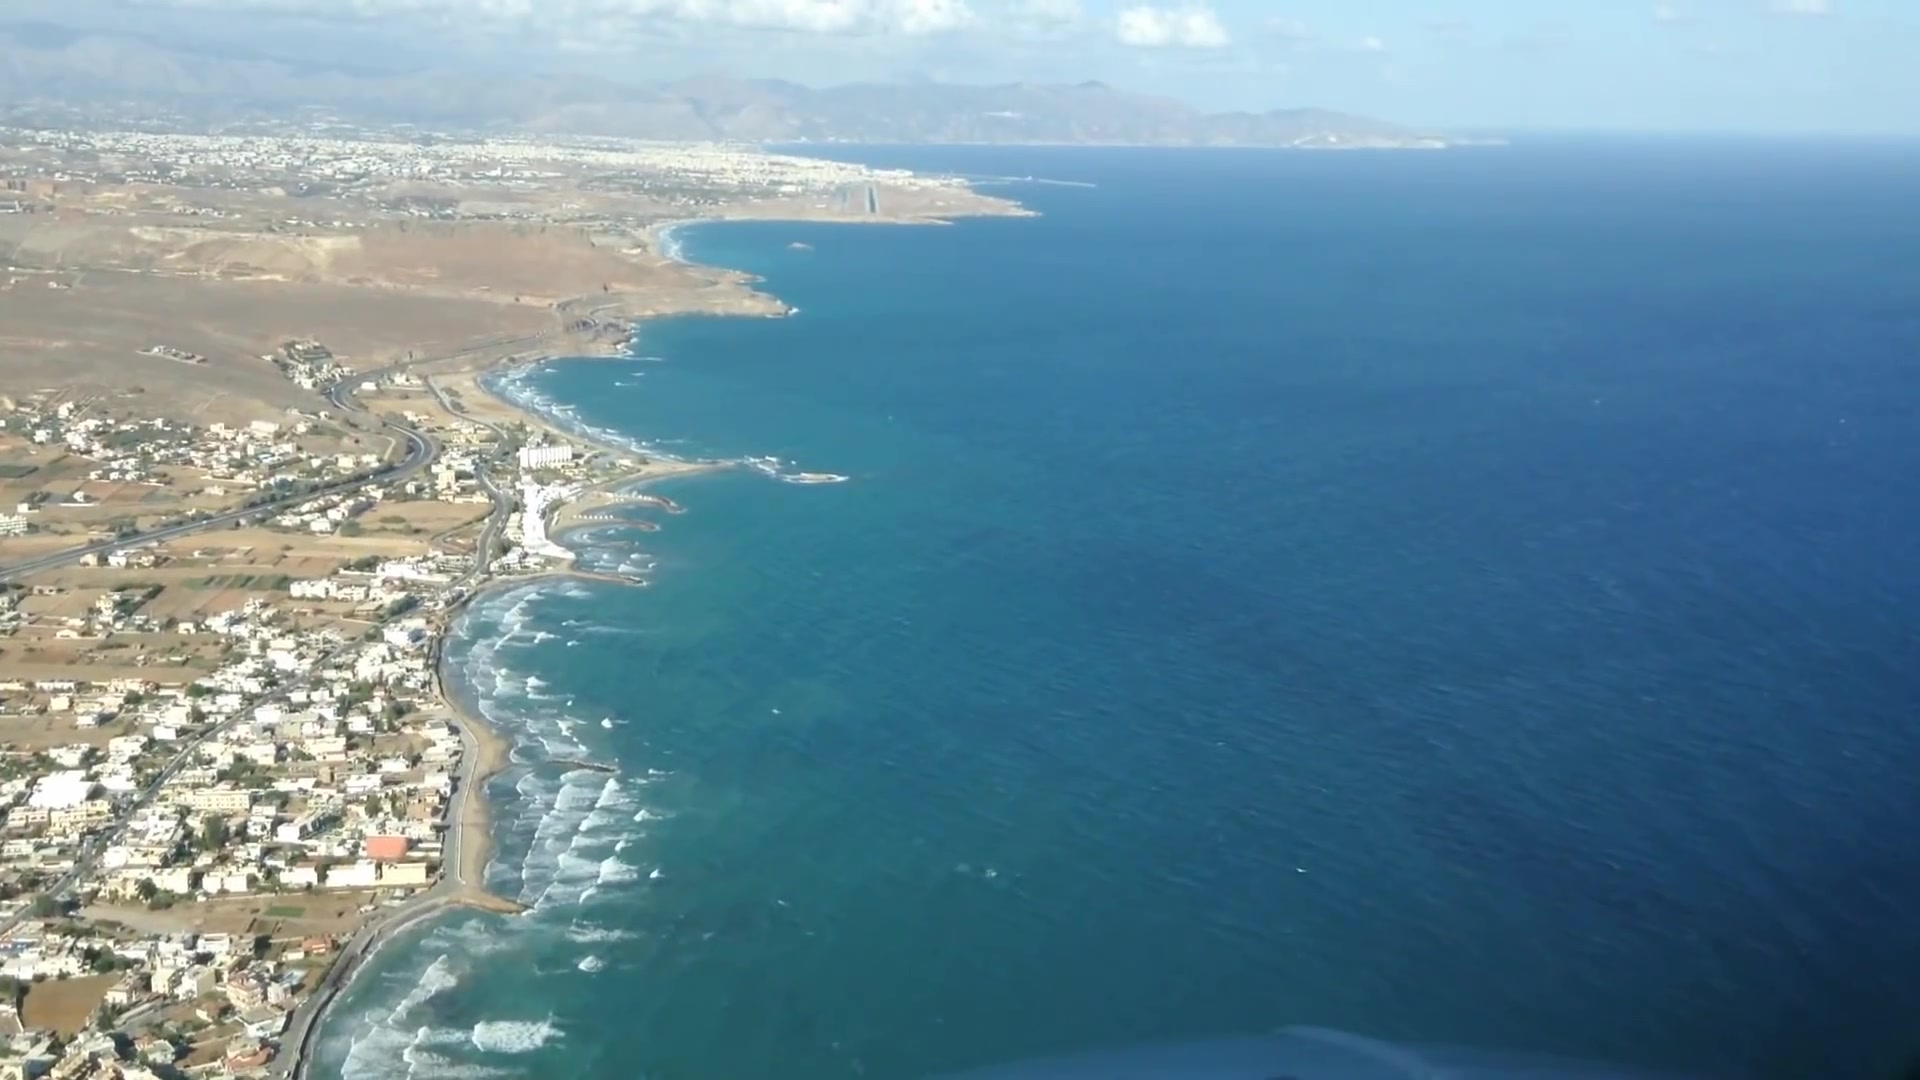runway: (861, 183, 885, 215)
